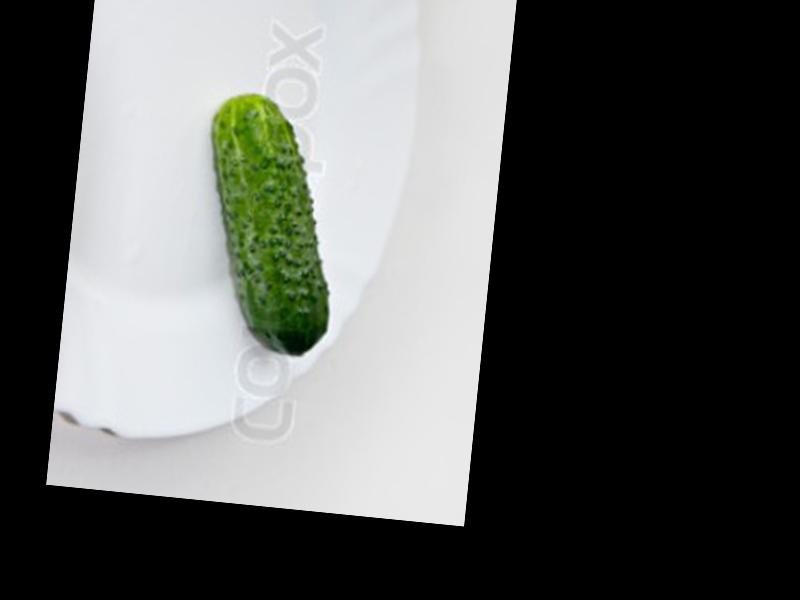Cucumber: (190, 92, 349, 356)
